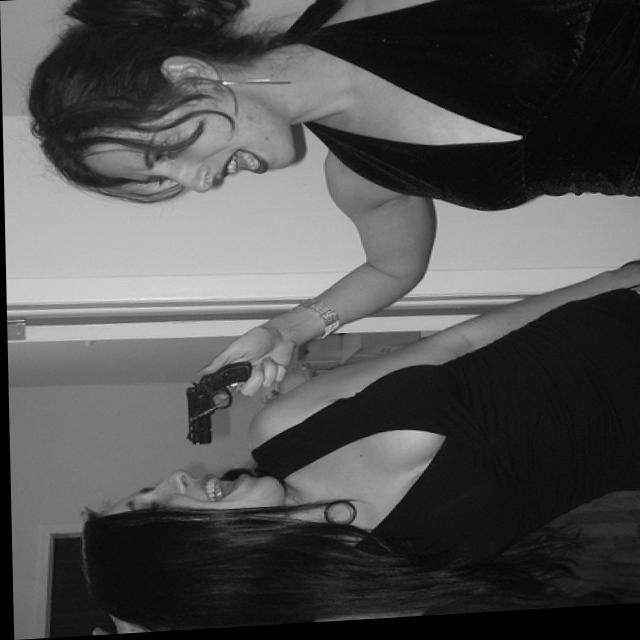handgun: (176, 362, 255, 446)
